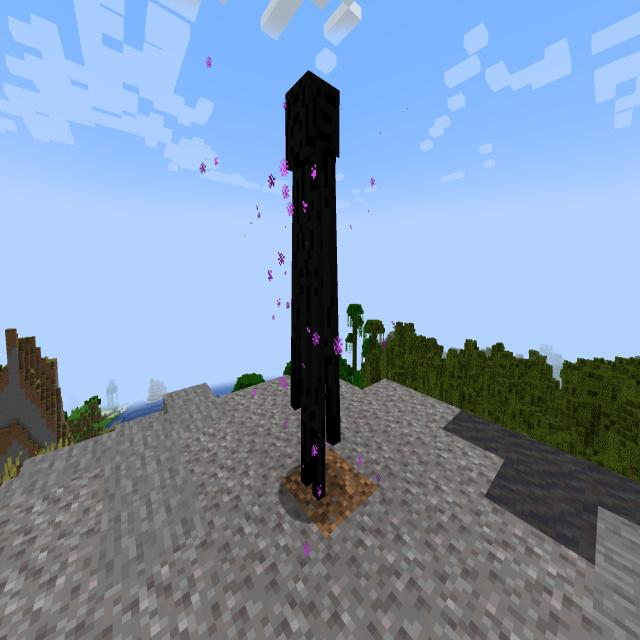Enderman: (272, 62, 350, 522)
